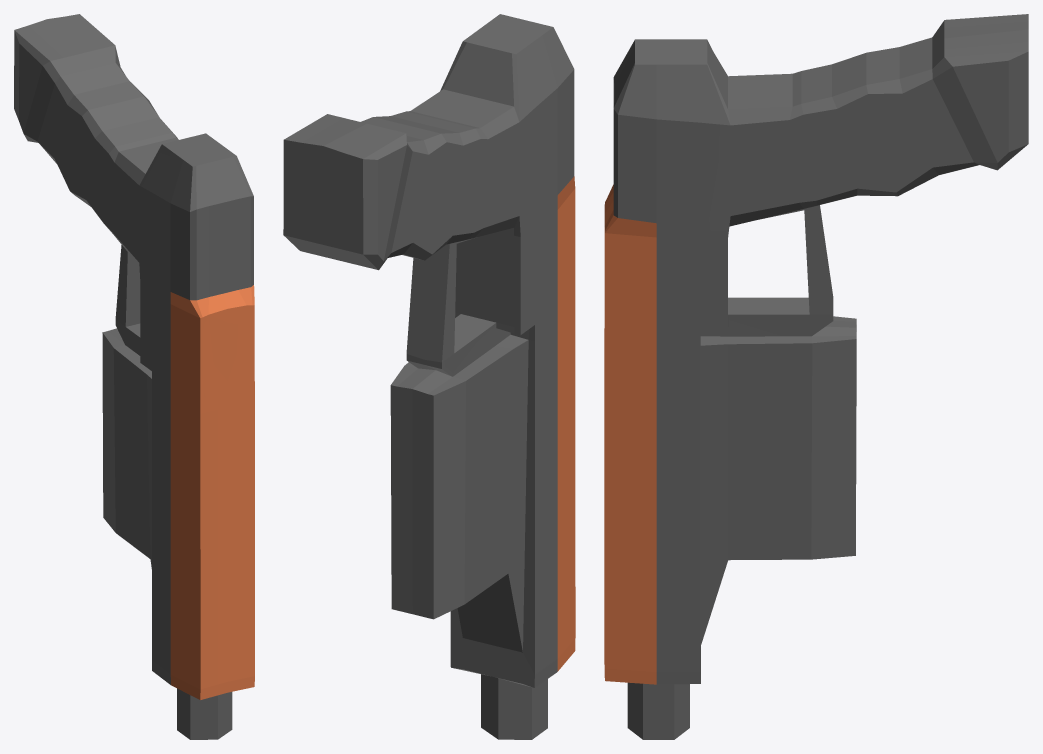
The model's file is pistol.fbx.
3 views of the same model, side by side, from view 1: azimuth 30°, elevation 25°; view 2: azimuth 150°, elevation 25°; view 3: azimuth 270°, elevation 25° (orthographic). The views are drawn at different scales.
Visible parts, largest first — view 1: gun.001; view 2: gun.001; view 3: gun.001.
Part boxes in pixels (x1=…): gun.001: x1=14, y1=14, x2=254, y2=739; gun.001: x1=283, y1=14, x2=575, y2=739; gun.001: x1=604, y1=14, x2=1028, y2=739.
Size of the model in its own units: 0.0364 by 0.283 by 0.1558.
